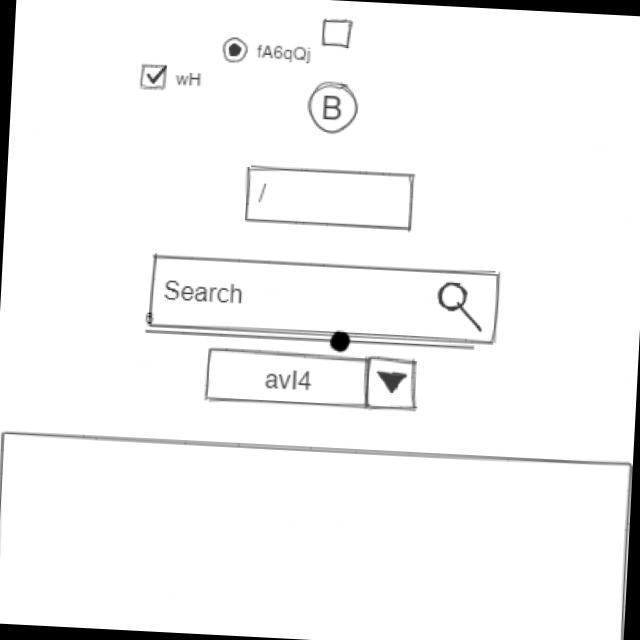checkbox: (138, 61, 208, 95)
container: (1, 426, 634, 640), (318, 16, 357, 50)
icon-button: (305, 79, 361, 138)
input: (244, 164, 421, 237)
radio: (222, 36, 316, 69)
search: (144, 251, 505, 349)
select: (201, 345, 423, 416)
slider: (156, 321, 481, 362)
